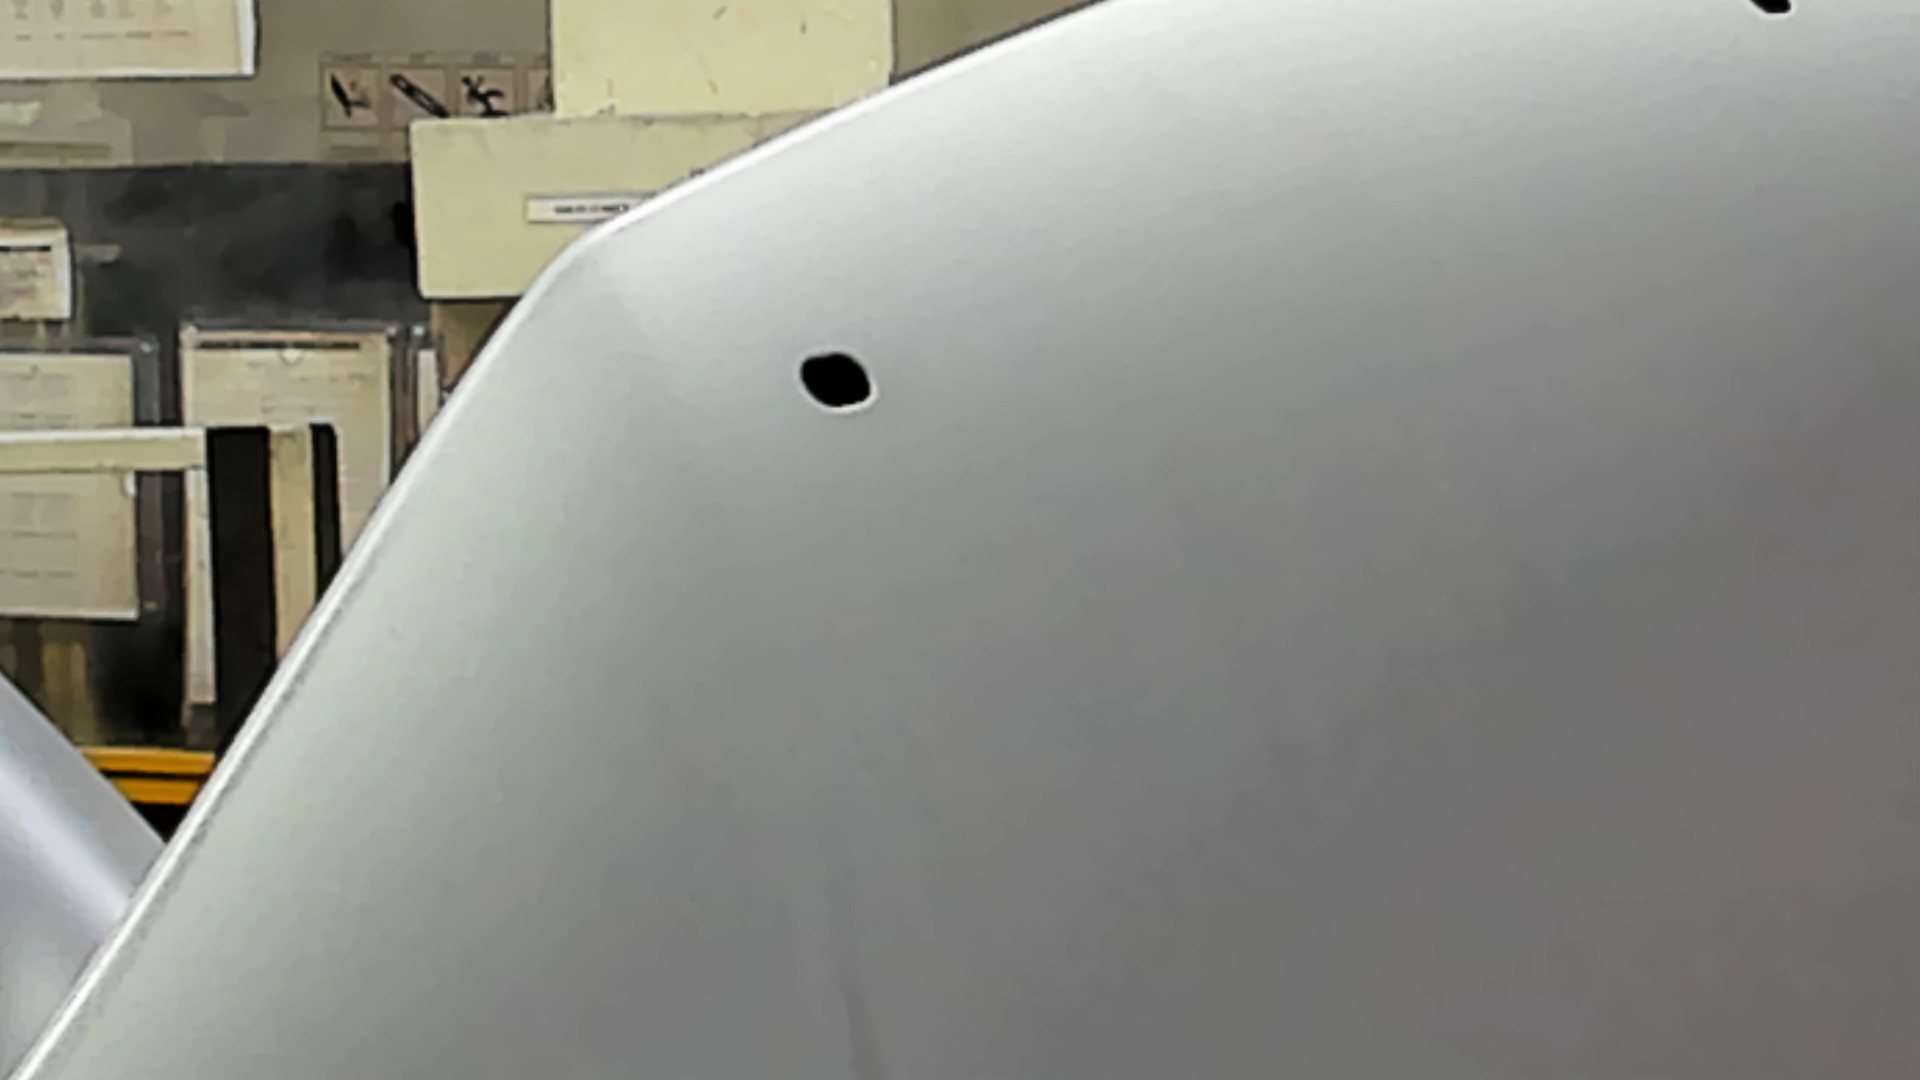amorfo: (796, 349, 878, 411), (1749, 1, 1800, 18)
